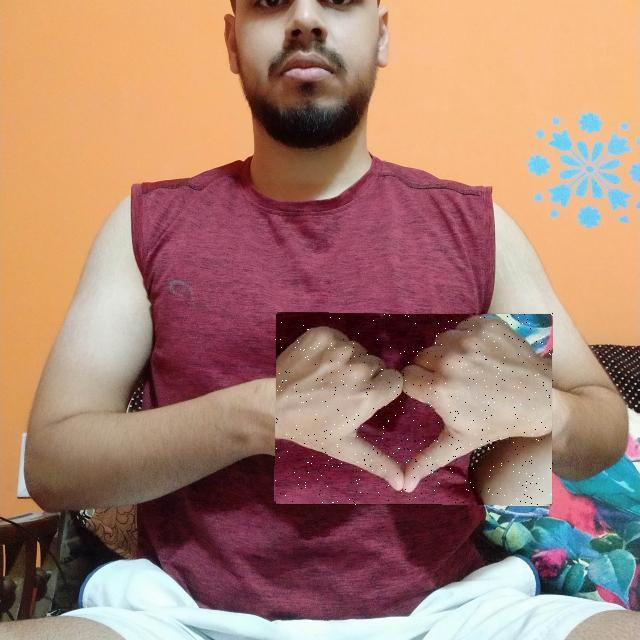A: (275, 313, 553, 505)
